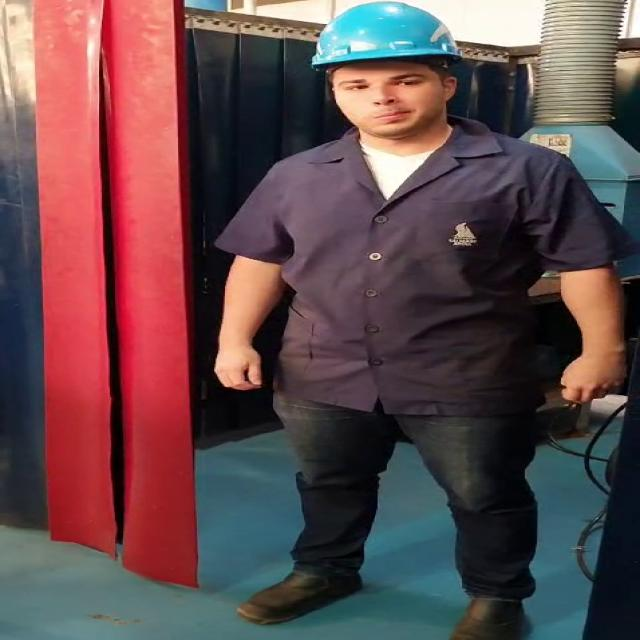sem_oculos: (316, 77, 461, 97)
